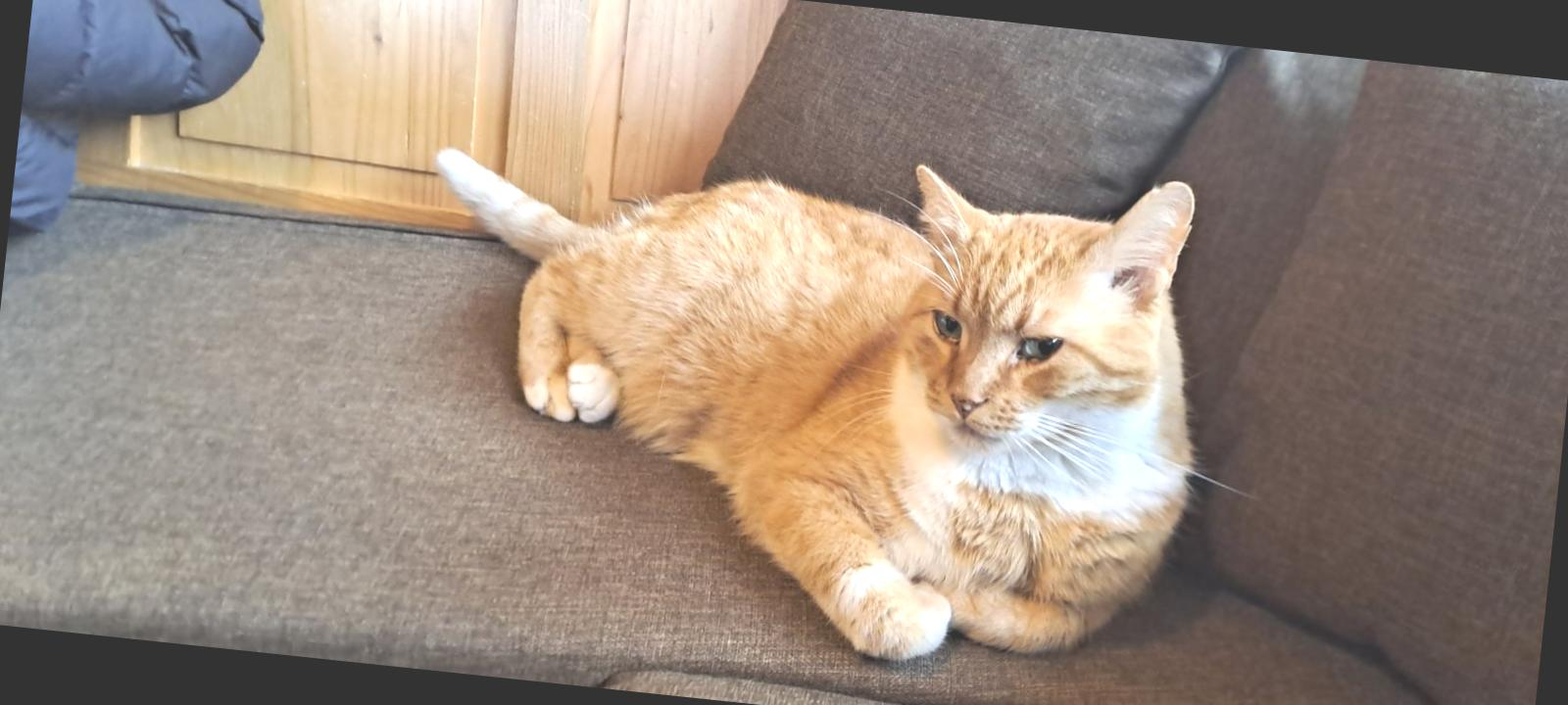macka: (386, 99, 1222, 687)
